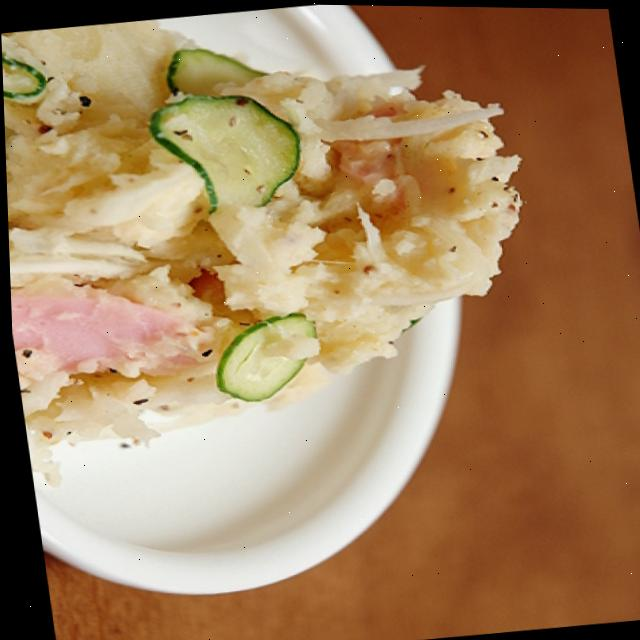蔬菜料理: (0, 0, 582, 619)
